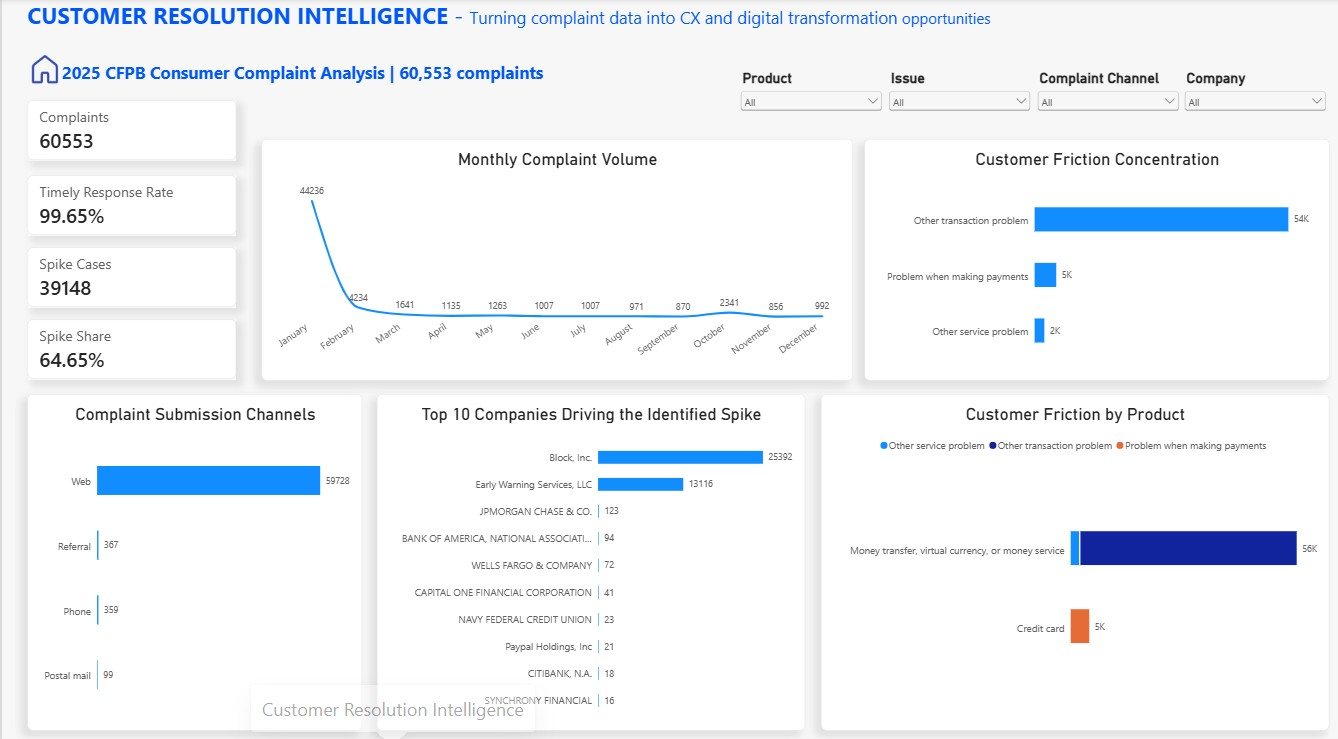

Layout of this report page (visuals, bound fields, positions):
{"tool":"powerbi","page":{"name":"Customer Resolution Intelligence","canvas":[1920,1080],"ordinal":1},"visuals":[{"type":"textbox","box":[35.8,2.4,1393.4,66.8],"z":0},{"type":"slicer","fields":{"Values":["complaints_clean.Product"]},"box":[1052.2,102.6,212.3,85.9],"z":0,"group":"g2"},{"type":"cardVisual","fields":{"Data":["_Measures.Total Complaints"]},"box":[35.8,145.5,299.5,86.6],"z":0,"group":"g1"},{"type":"textbox","box":[85.9,90.7,718.2,54.9],"z":1000},{"type":"slicer","fields":{"Values":["complaints_clean.Issue"]},"box":[1264.5,102.6,212,85],"z":1000,"group":"g2"},{"type":"cardVisual","fields":{"Data":["_Measures.Spike Concentration"]},"box":[35.8,459.5,299.5,86.6],"z":1000,"group":"g1"},{"type":"slicer","fields":{"Values":["complaints_clean.Submitted via"]},"box":[1476.9,102.6,212,85],"z":2000,"group":"g2"},{"type":"group","id":"g1","title":"Group 1","box":[35.8,145.5,300.6,403.2],"z":2000},{"type":"cardVisual","fields":{"Data":["_Measures.Timely Response Rate"]},"box":[35.8,252.4,299.5,86.6],"z":2000,"group":"g1"},{"type":"slicer","fields":{"Values":["complaints_clean.Company"]},"box":[1689.2,102.6,212.3,85],"z":3000,"group":"g2"},{"type":"lineChart","title":"Monthly Complaint Volume","fields":{"Category":["complaints_clean.Month.Variation.Date Hierarchy.Month"],"Y":["_Measures.Total Complaints"]},"box":[372.2,202.8,847,346],"z":3000},{"type":"cardVisual","fields":{"Data":["_Measures.Spike Complaints"]},"box":[35.8,357.1,299.5,86.6],"z":3000,"group":"g1"},{"type":"clusteredBarChart","title":"Customer Friction Concentration","fields":{"Category":["complaints_clean.Issue"],"Y":["_Measures.Total Complaints"]},"box":[1235.9,202.8,665.7,346],"z":4000},{"type":"barChart","title":"Customer Friction by Product","fields":{"Category":["complaints_clean.Product"],"Y":["_Measures.Total Complaints"],"Series":["complaints_clean.Issue"]},"box":[1173.9,567.8,727.7,482],"z":5000},{"type":"clusteredBarChart","title":"Complaint Submission Channels","fields":{"Category":["complaints_clean.Submitted via"],"Y":["_Measures.Total Complaints"]},"box":[35.8,567.8,479.6,482],"z":6000},{"type":"clusteredBarChart","title":"Top 10 Companies Driving the Identified Spike","fields":{"Category":["complaints_clean.Company"],"Y":["_Measures.Total Complaints"]},"box":[536.8,567.8,613.2,482],"z":7000},{"type":"group","id":"g2","title":"Group 1","box":[1052.2,102.6,849.4,85.9],"z":8000},{"type":"image","box":[35.8,69.2,50.1,66.8],"z":9000}]}

Visuals, with their boxes in screenshot pixels (x1, y1, x2, y2), scaled from the page's 1920x1080 canvas onto the 1338x739 screenshot:
textbox: x1=25 y1=2 x2=996 y2=47
slicer - complaints_clean.Product: x1=733 y1=70 x2=881 y2=129
cardVisual - _Measures.Total Complaints: x1=25 y1=100 x2=234 y2=159
textbox: x1=60 y1=62 x2=560 y2=100
slicer - complaints_clean.Issue: x1=881 y1=70 x2=1029 y2=128
cardVisual - _Measures.Spike Concentration: x1=25 y1=314 x2=234 y2=374
slicer - complaints_clean.Submitted via: x1=1029 y1=70 x2=1177 y2=128
"Group 1" group: x1=25 y1=100 x2=234 y2=375
cardVisual - _Measures.Timely Response Rate: x1=25 y1=173 x2=234 y2=232
slicer - complaints_clean.Company: x1=1177 y1=70 x2=1325 y2=128
"Monthly Complaint Volume" lineChart: x1=259 y1=139 x2=850 y2=376
cardVisual - _Measures.Spike Complaints: x1=25 y1=244 x2=234 y2=304
"Customer Friction Concentration" clusteredBarChart: x1=861 y1=139 x2=1325 y2=376
"Customer Friction by Product" barChart: x1=818 y1=389 x2=1325 y2=718
"Complaint Submission Channels" clusteredBarChart: x1=25 y1=389 x2=359 y2=718
"Top 10 Companies Driving the Identified Spike" clusteredBarChart: x1=374 y1=389 x2=801 y2=718
"Group 1" group: x1=733 y1=70 x2=1325 y2=129
image: x1=25 y1=47 x2=60 y2=93
